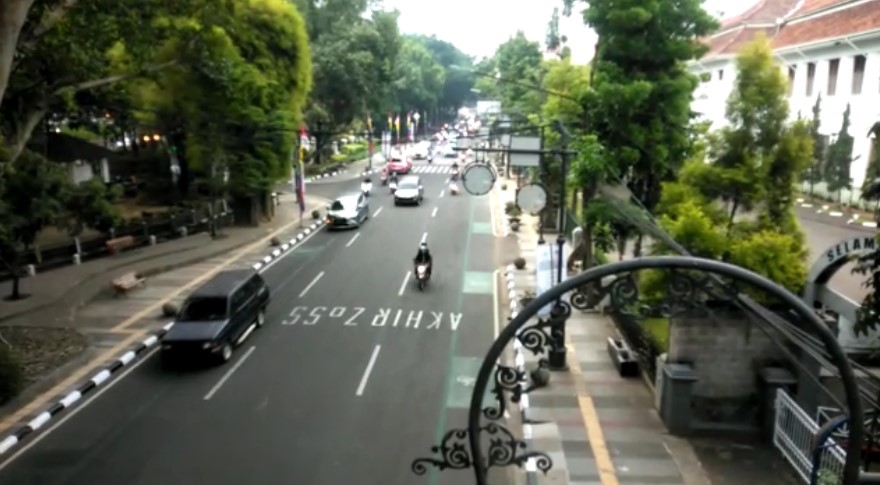mobil: (157, 268, 284, 364), (324, 193, 370, 228), (386, 174, 428, 204)
motor: (412, 242, 441, 295)
